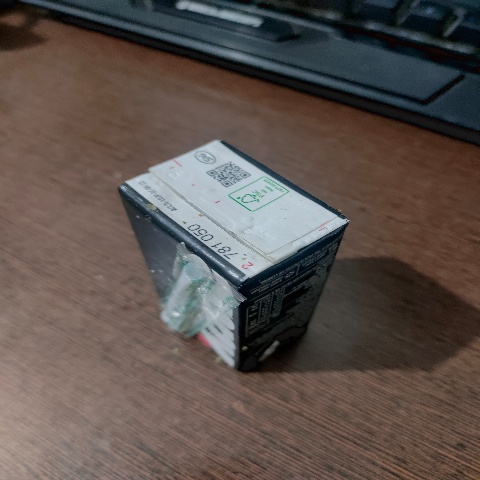appy: (107, 118, 370, 395)
